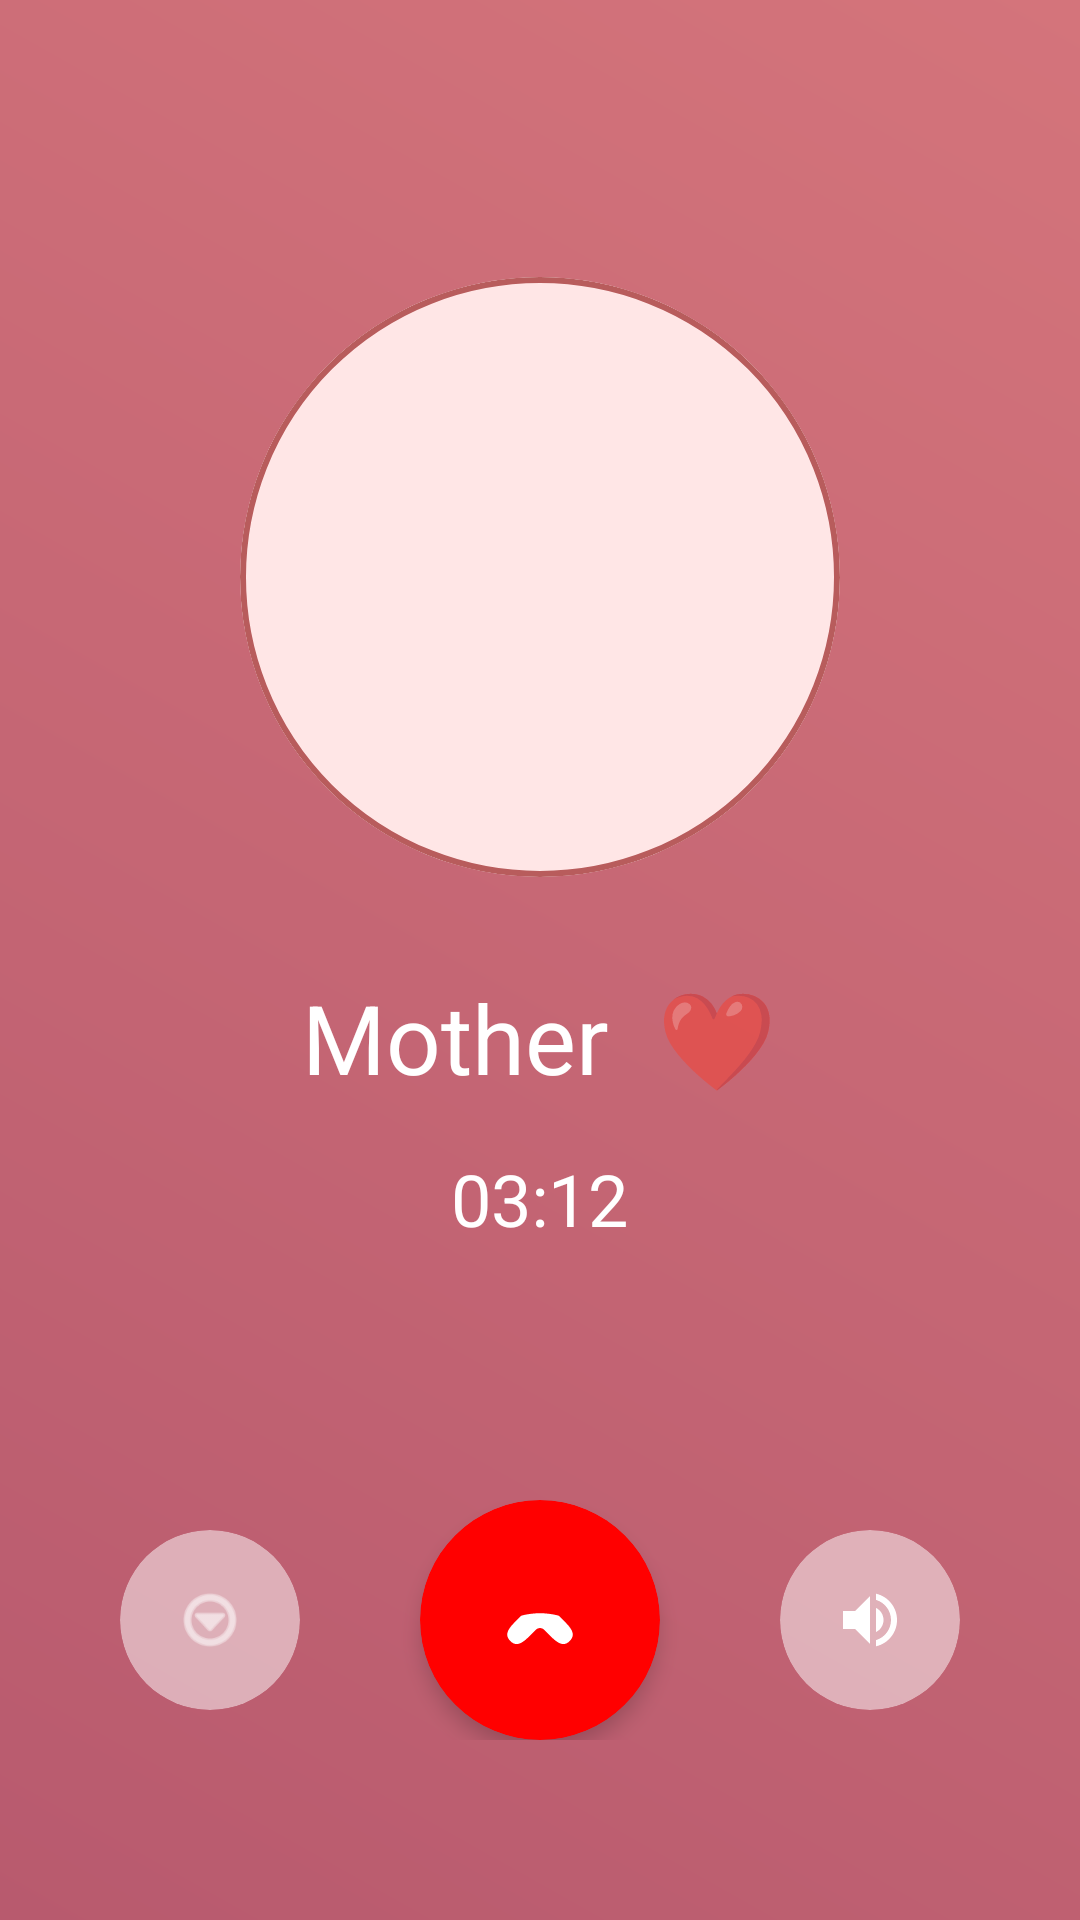

Point at icon controls on the screen. Image size 1080×1920, points as (x=x, y=y).
call end: (x=540, y=1628)
more: (x=210, y=1620)
speaker: (x=870, y=1620)
